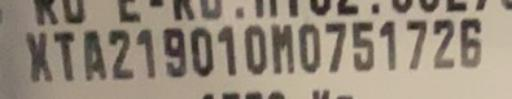letter: (24, 30, 58, 83), (346, 20, 378, 73), (104, 28, 136, 81), (76, 29, 108, 82), (266, 24, 298, 75), (458, 17, 488, 70), (158, 27, 188, 80), (185, 27, 217, 76), (428, 17, 456, 70), (400, 18, 428, 71), (240, 24, 268, 77), (52, 29, 78, 82), (376, 19, 400, 72), (296, 21, 320, 74), (214, 27, 238, 80), (134, 28, 158, 81), (322, 23, 346, 74)
